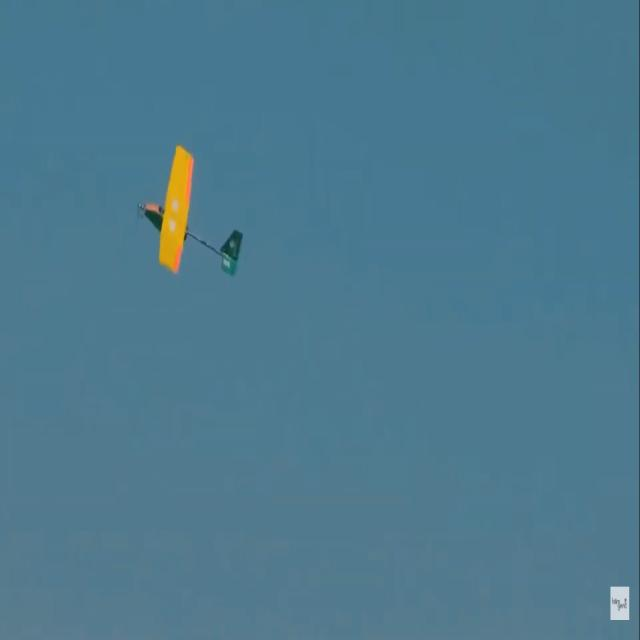iha: (164, 135, 211, 285)
